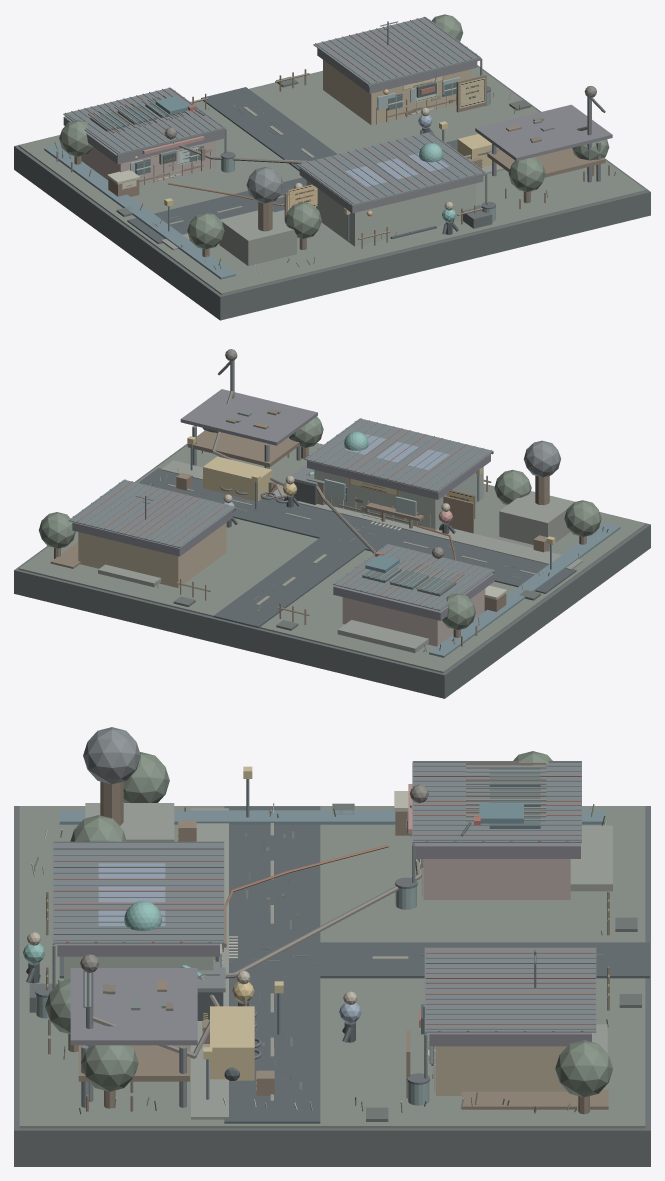
File: yudae_e_commons_direct_detailed.glb
3 views of the same model, one above another, from view 1: azimuth 30°, elevation 25°; view 2: azimuth 150°, elevation 25°; view 3: azimuth 270°, elevation 25° (orthographic). The views are drawn at different scales.
Parts seen in each view (by area): view 1: world; view 2: world; view 3: world.
Part boxes in pixels (bbox=[...]): world: bbox=[14, 14, 650, 320]; world: bbox=[14, 349, 650, 698]; world: bbox=[14, 727, 650, 1166].
Size of the model in its own units: 3.45 by 0.918 by 2.86.
Materials: 9 (9 with a texture image).
